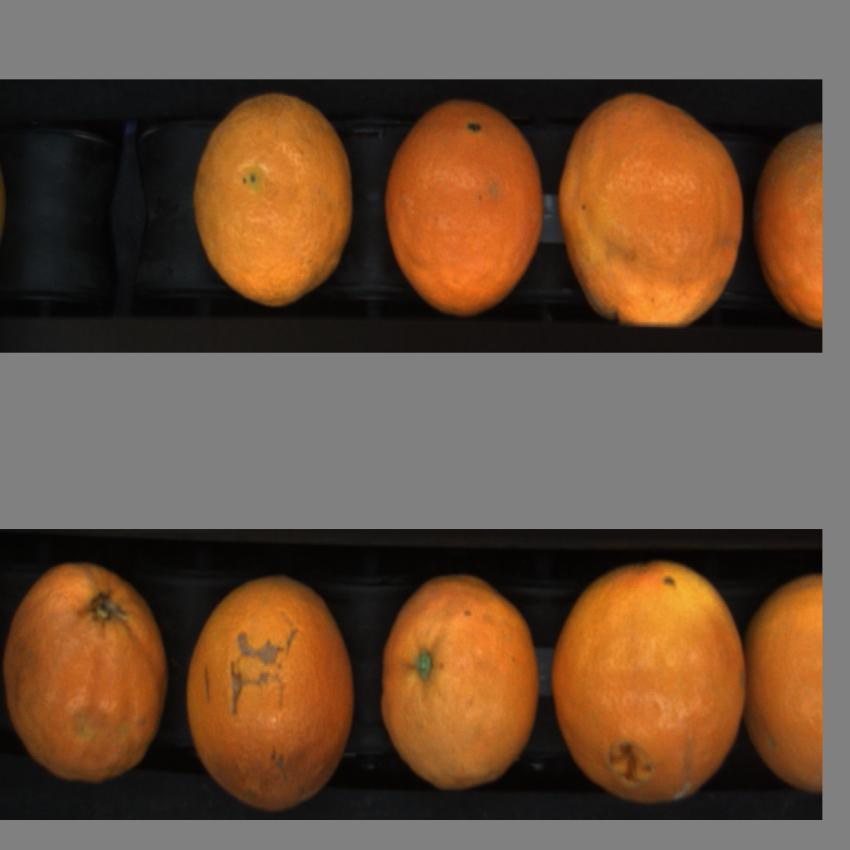Buen estado: (551, 560, 746, 808), (557, 93, 748, 333), (184, 569, 357, 814), (3, 558, 170, 795), (191, 90, 359, 314), (382, 97, 547, 321), (382, 568, 540, 794), (748, 567, 822, 793), (756, 118, 822, 327)
